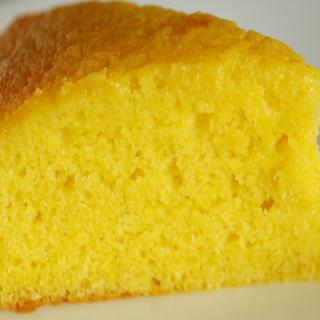Bread: (0, 0, 320, 314)
